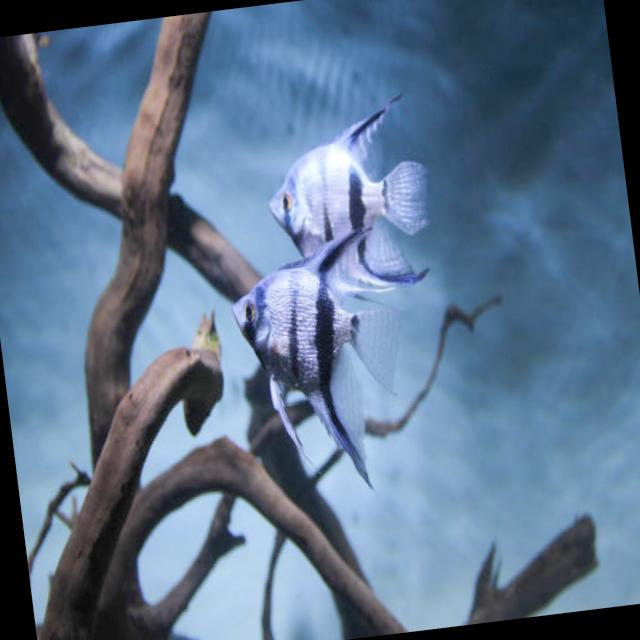AngelFish: (225, 221, 410, 504), (252, 88, 448, 306)
